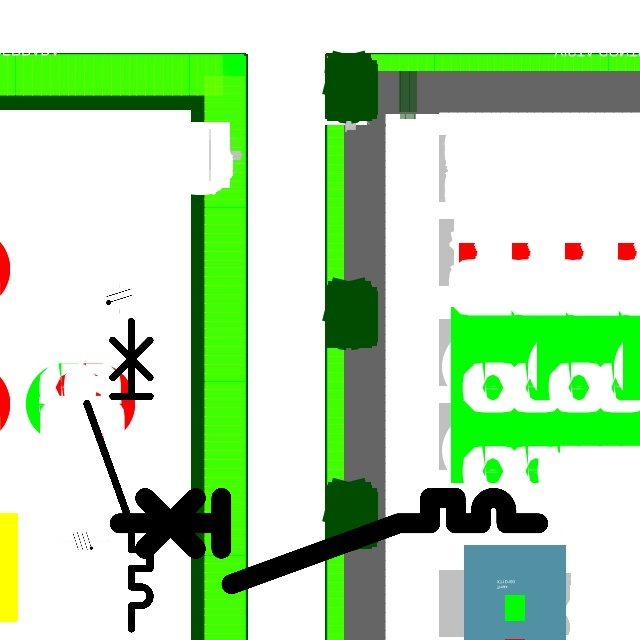interruptor_termomagnetico: (108, 487, 548, 594), (79, 313, 158, 636)
